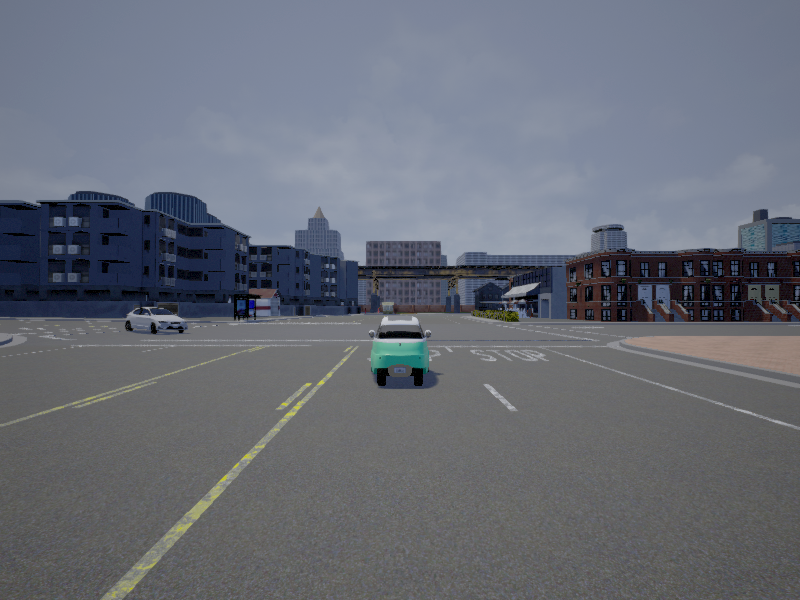Benign: (369, 315, 431, 386), (125, 307, 190, 334)
